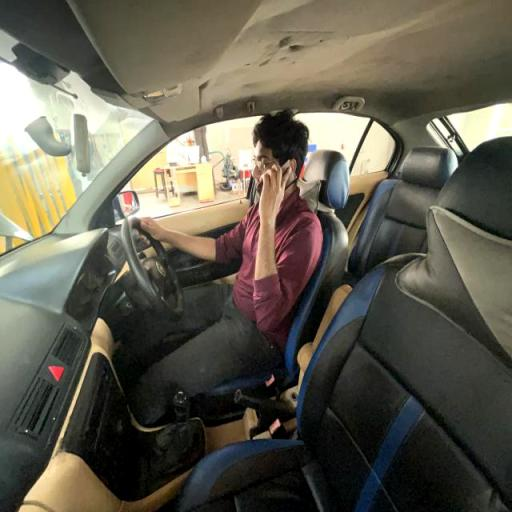Talking_on_phone: (135, 107, 324, 345)
